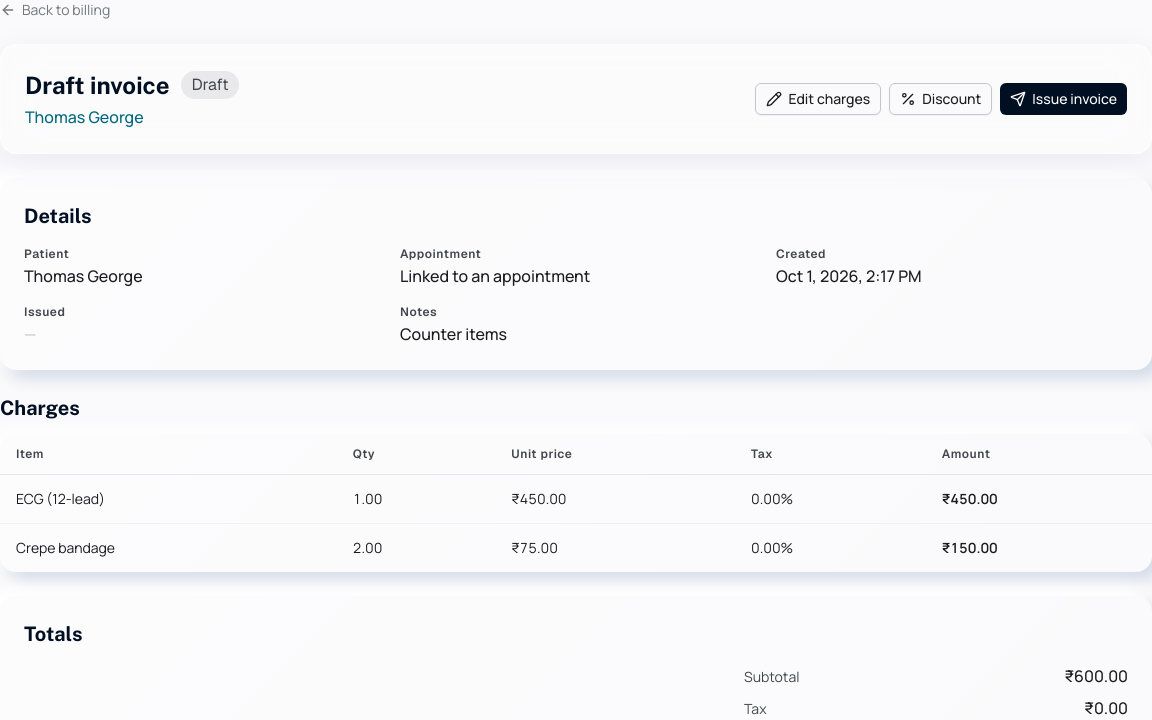
Test case: issuing › shows the API's reason when the draft cannot be issued
Click the button "Issue invoice".
click(1064, 99)  # box [1000, 83, 1127, 115]
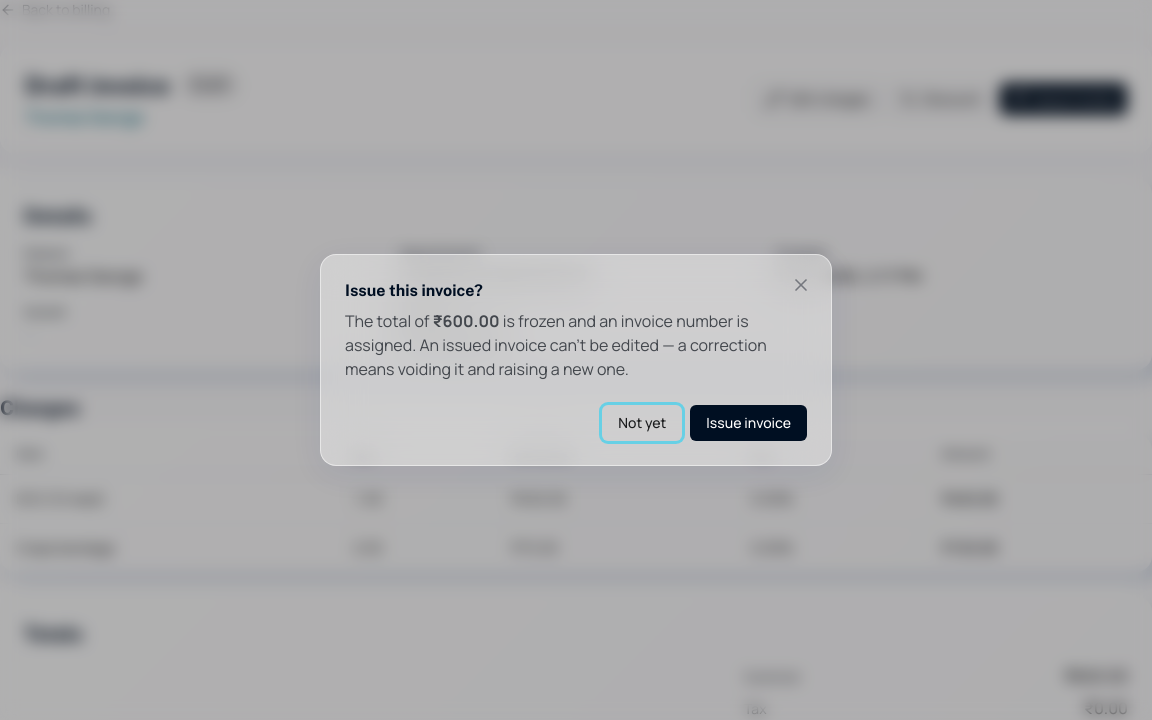
Click the button "Issue invoice".
click(749, 423)  # box [690, 405, 807, 441]
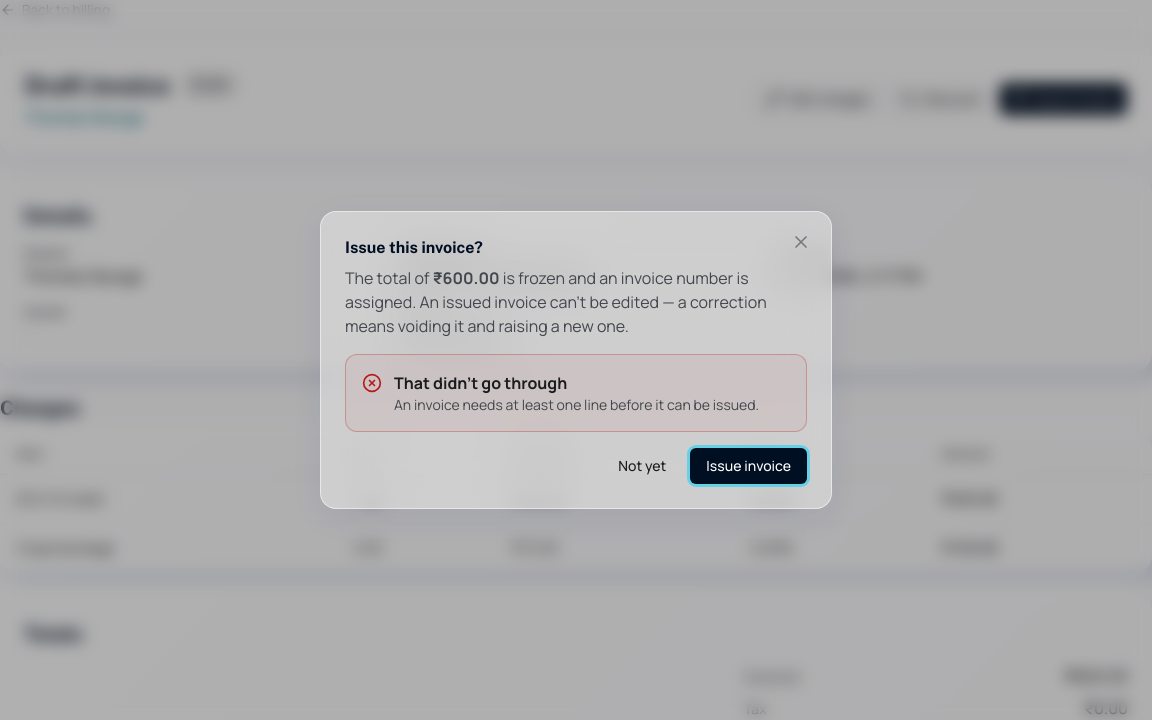
Expected: the text "An invoice needs at least one line before it can be issued." is shown, [394, 395, 790, 415]
